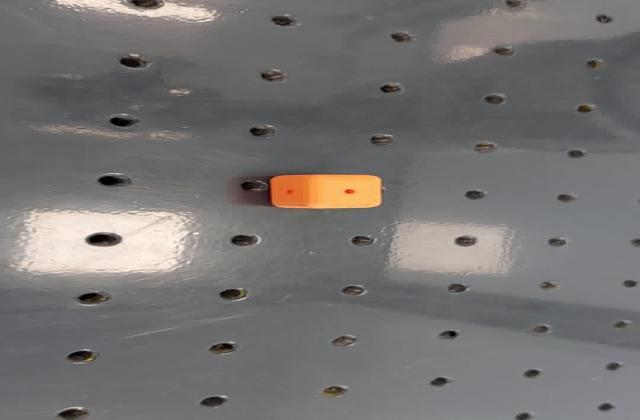cube: (265, 172, 388, 212)
